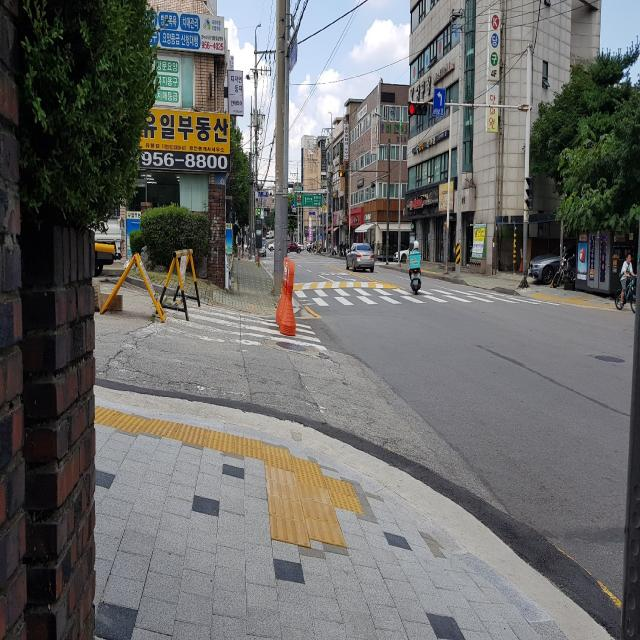횡단보도: (136, 299, 328, 351), (291, 282, 557, 308)
